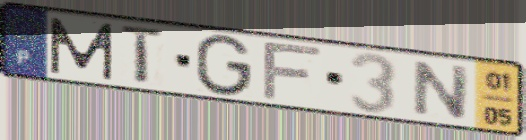3: (348, 50, 402, 118)
F: (259, 41, 326, 103)
G: (193, 32, 255, 99)
M: (46, 15, 116, 82)
N: (410, 58, 474, 122)
T: (118, 22, 168, 87)
